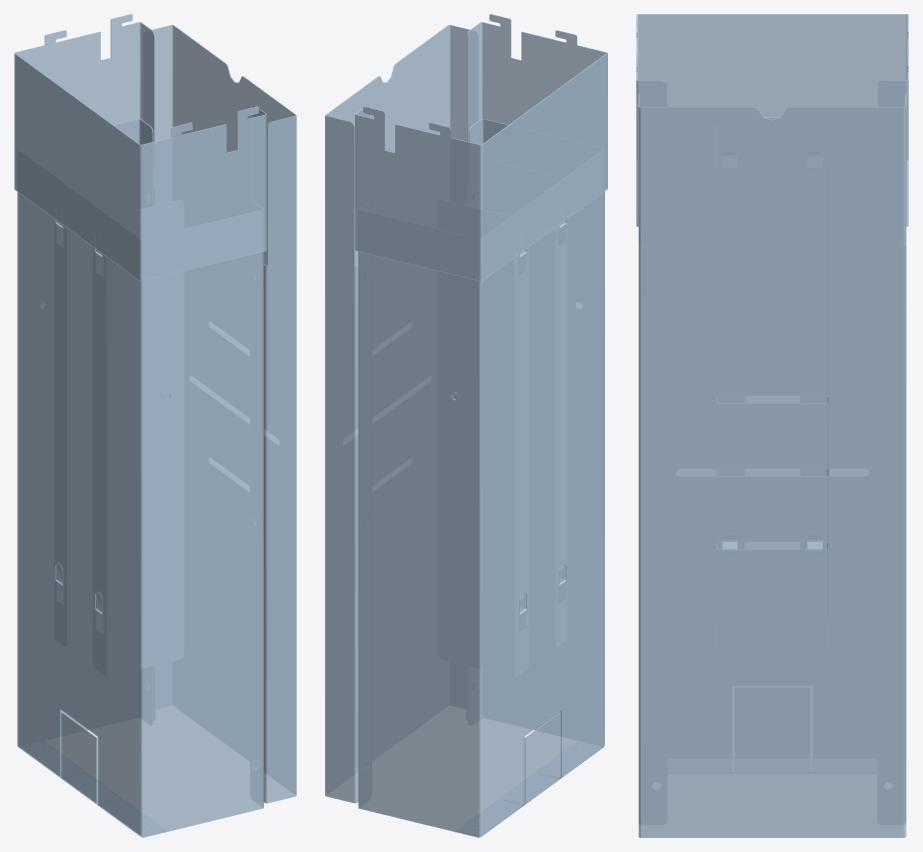
The model's file is 2KSO325000.glb.
3 views of the same model, side by side, from view 1: azimuth 30°, elevation 25°; view 2: azimuth 150°, elevation 25°; view 3: azimuth 270°, elevation 25° (orthographic). The views are drawn at different scales.
Parts seen in each view (by area): view 1: 7, 8, 10, 6, 9; view 2: 7, 8, 10, 9, 6; view 3: 10, 8, 7, 6, 9.
Boxes of the visible parts, x1,y1,x2,y2 form: 7: [17, 118, 263, 837]; 8: [14, 14, 266, 281]; 10: [152, 25, 296, 803]; 6: [54, 219, 66, 646]; 9: [93, 248, 169, 675]; 7: [358, 118, 604, 837]; 8: [355, 14, 607, 281]; 10: [325, 24, 469, 803]; 9: [555, 219, 567, 646]; 6: [452, 248, 528, 675]; 10: [638, 93, 906, 837]; 8: [636, 14, 908, 226]; 7: [675, 117, 869, 548]; 6: [800, 396, 829, 548]; 9: [715, 396, 744, 548].
Size of the model in its own units: 0.122 by 0.5174 by 0.1691.
